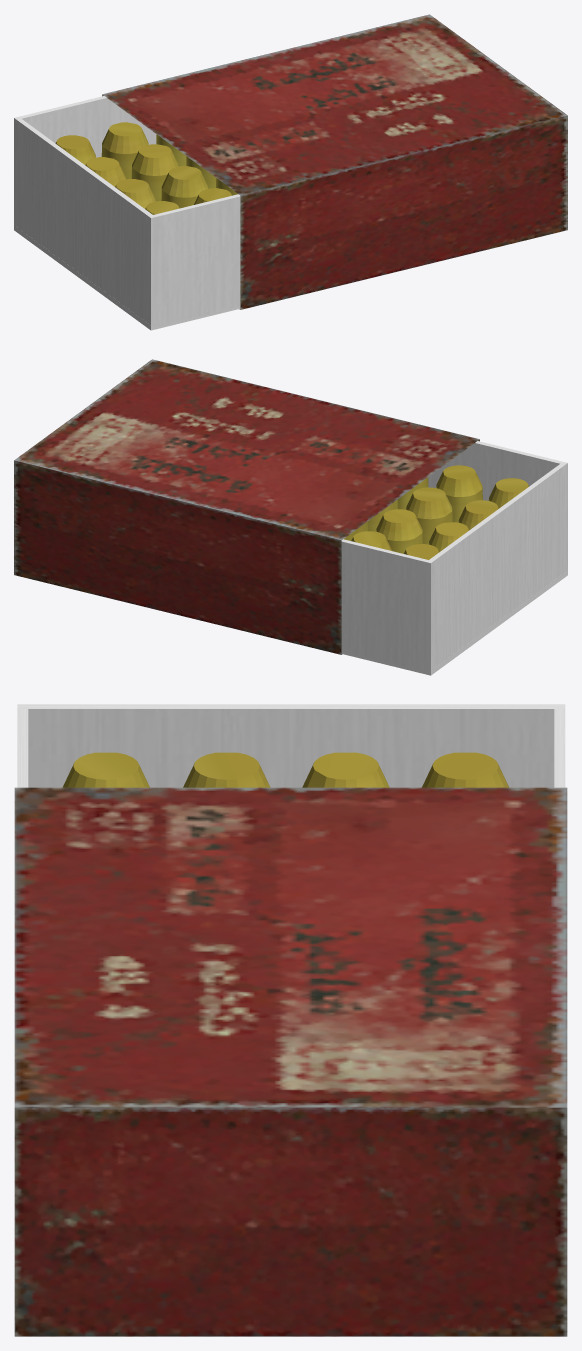
Rendered from bullet box.fbx.
The picture shows the model from 3 angles, top to bottom: view 1: azimuth 30°, elevation 25°; view 2: azimuth 150°, elevation 25°; view 3: azimuth 270°, elevation 25°; orthographic projection. The views are drawn at different scales.
Parts seen in each view (by area): view 1: pPlane1, pCube13, pCylinder25; view 2: pPlane1, pCube13, pCylinder25; view 3: pPlane1, pCube13, pCylinder25.
Boxes of the visible parts, left/top/right/bottom form: pPlane1: left=102, top=14, right=567, bottom=309; pCube13: left=14, top=96, right=240, bottom=330; pCylinder25: left=55, top=122, right=238, bottom=214; pPlane1: left=14, top=359, right=479, bottom=654; pCube13: left=341, top=441, right=567, bottom=675; pCylinder25: left=344, top=465, right=528, bottom=559; pPlane1: left=14, top=787, right=567, bottom=1336; pCube13: left=17, top=704, right=565, bottom=787; pCylinder25: left=62, top=752, right=508, bottom=787.
Bounding box in the file's own units: 0.9362 × 0.2462 × 0.5384.
4 materials, 4 textured.
